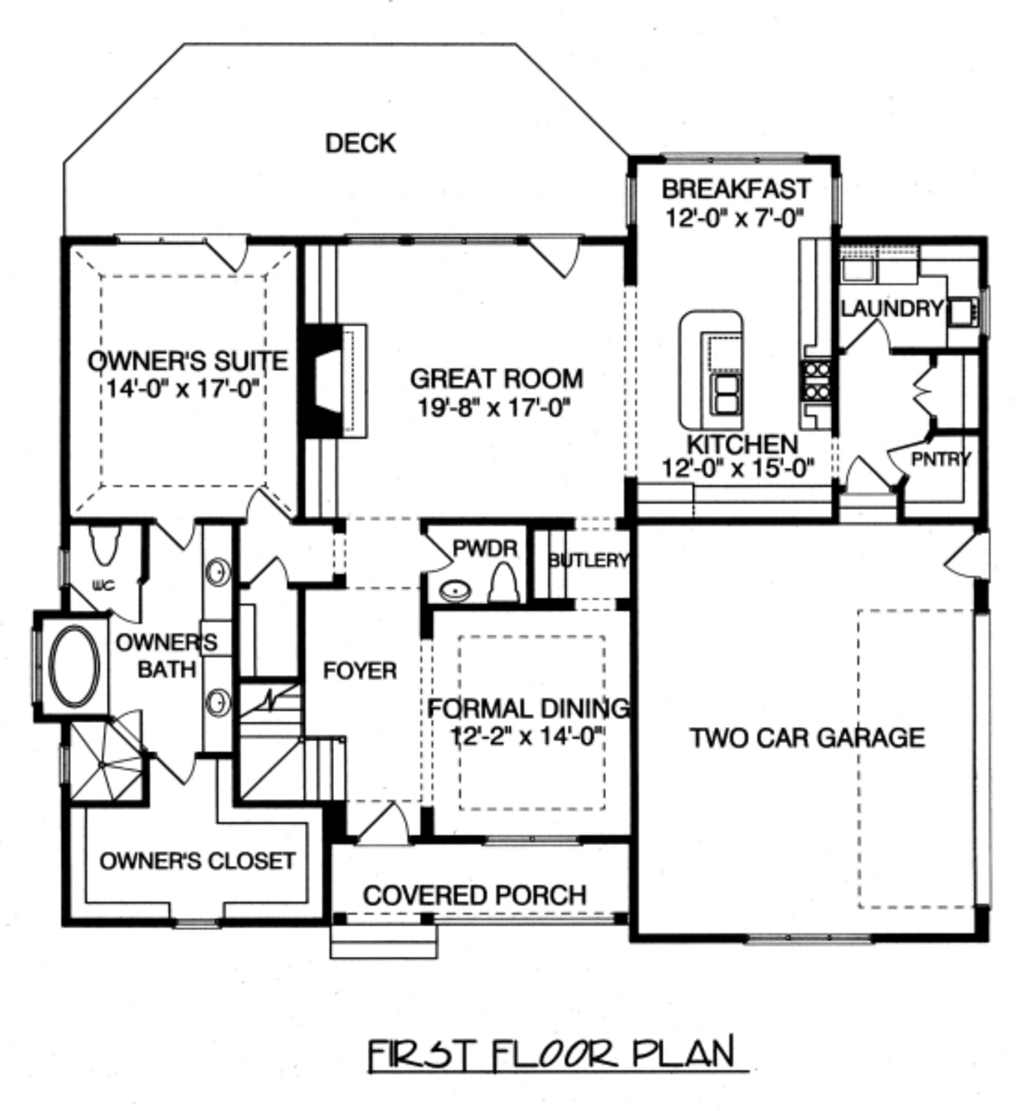door: (516, 224, 600, 284), (830, 296, 899, 365), (940, 522, 1000, 589), (347, 798, 423, 849), (138, 737, 202, 786), (906, 353, 949, 425), (838, 449, 895, 501), (242, 543, 295, 596), (895, 424, 940, 480), (200, 222, 250, 272), (237, 486, 299, 525), (416, 529, 461, 580), (147, 510, 197, 553), (102, 582, 144, 630)
kitchen_bar: (666, 275, 761, 444)
large_sink: (480, 546, 526, 610), (75, 517, 128, 565)
small_sink: (194, 518, 237, 617), (200, 655, 242, 751), (428, 565, 476, 606)
stairs: (231, 596, 356, 799)
twin_sink: (706, 370, 759, 420)
window: (742, 925, 880, 953), (661, 141, 813, 163), (475, 822, 573, 849), (56, 736, 92, 805), (821, 167, 856, 232), (157, 906, 244, 932), (628, 174, 654, 237), (28, 625, 45, 710)
